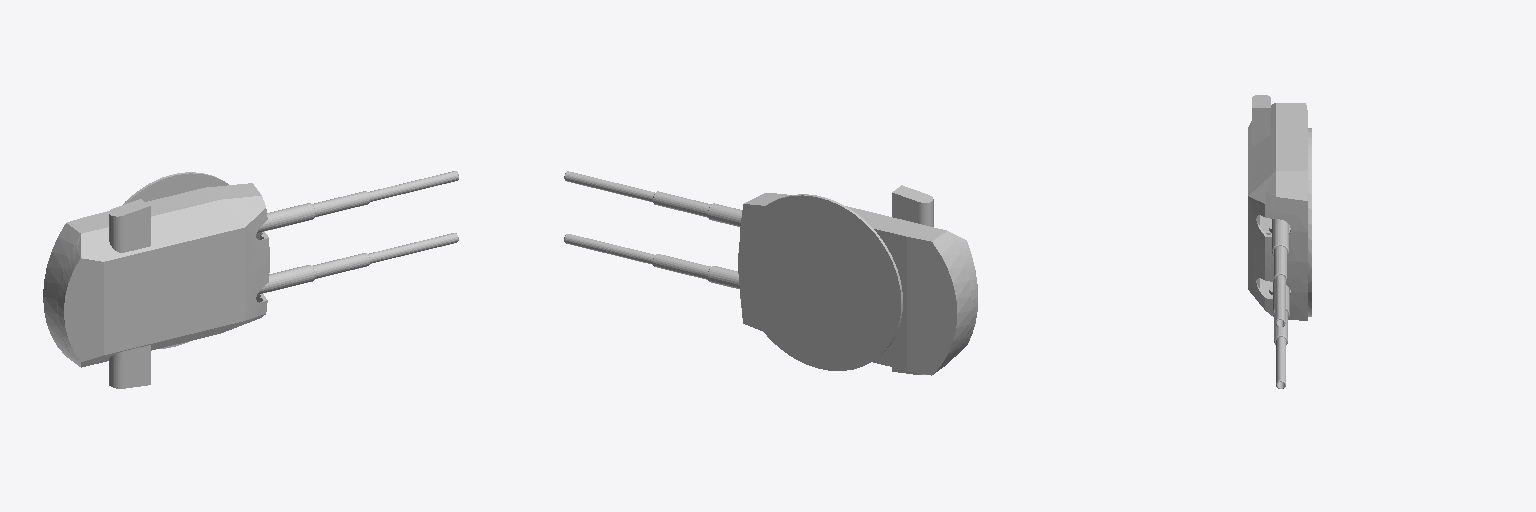
Rendered from Bismarck_Main_Turret.obj.
3 views of the same model, side by side, from view 1: azimuth 30°, elevation 25°; view 2: azimuth 150°, elevation 25°; view 3: azimuth 270°, elevation 25° (orthographic).
Visible parts, largest first — view 1: Body1:3, Body1:2, Body1, Body1:1; view 2: Body1:1, Body1:3, Body1:2, Body1; view 3: Body1:3, Body1:2, Body1, Body1:1.
Part boxes in pixels (bbox=[...]): Body1:3: bbox=[43, 183, 269, 388]; Body1:2: bbox=[257, 171, 458, 232]; Body1: bbox=[257, 233, 458, 294]; Body1:1: bbox=[123, 172, 228, 348]; Body1:1: bbox=[738, 194, 953, 371]; Body1:3: bbox=[739, 185, 977, 375]; Body1:2: bbox=[564, 171, 741, 226]; Body1: bbox=[564, 234, 739, 288]; Body1:3: bbox=[1248, 95, 1307, 320]; Body1:2: bbox=[1272, 219, 1288, 326]; Body1: bbox=[1273, 282, 1289, 388]; Body1:1: bbox=[1269, 128, 1311, 316].
Size of the model in its own units: 27.03 by 11.5 by 3.7.